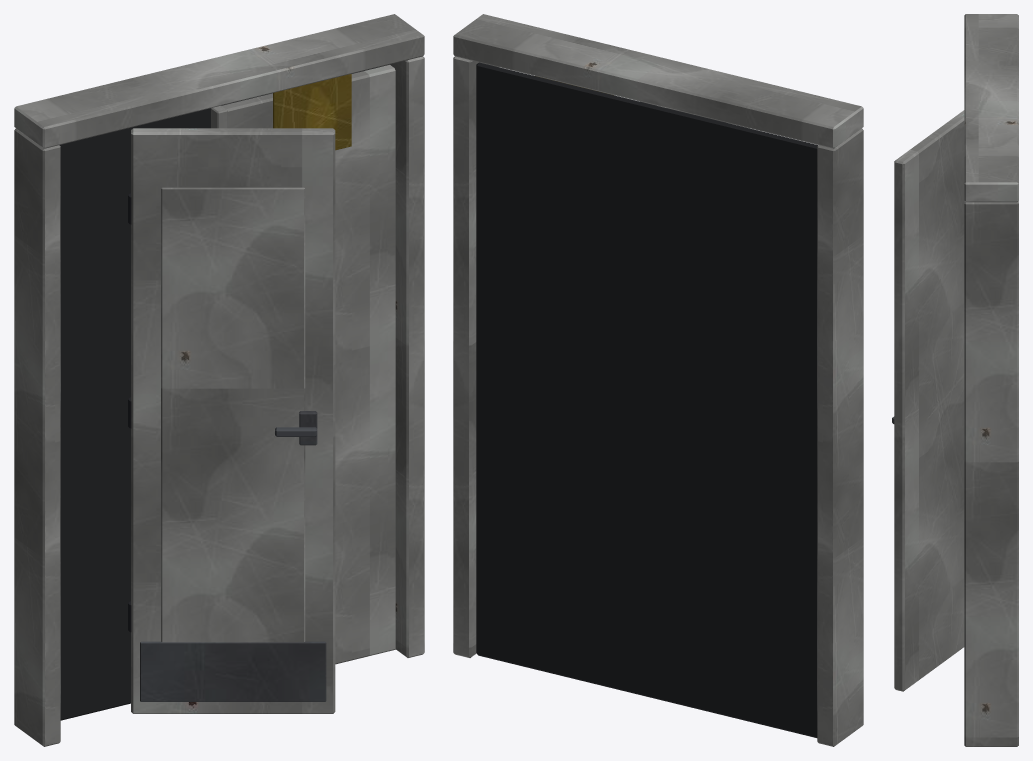
File: door_lab.glb
The picture shows the model from 3 angles, left to right: view 1: azimuth 30°, elevation 25°; view 2: azimuth 150°, elevation 25°; view 3: azimuth 270°, elevation 25°; orthographic projection. The views are drawn at different scales.
Visible parts, largest first — view 1: frame, door; view 2: frame; view 3: frame, door.
Part boxes in pixels (x1=…): frame: x1=14, y1=14, x2=424, y2=746; door: x1=128, y1=128, x2=335, y2=713; frame: x1=453, y1=14, x2=863, y2=746; frame: x1=964, y1=14, x2=1018, y2=746; door: x1=892, y1=110, x2=964, y2=691.
Size of the model in its own units: 1.47 by 2.28 by 0.4638.
Materials: 6 (4 with a texture image).
